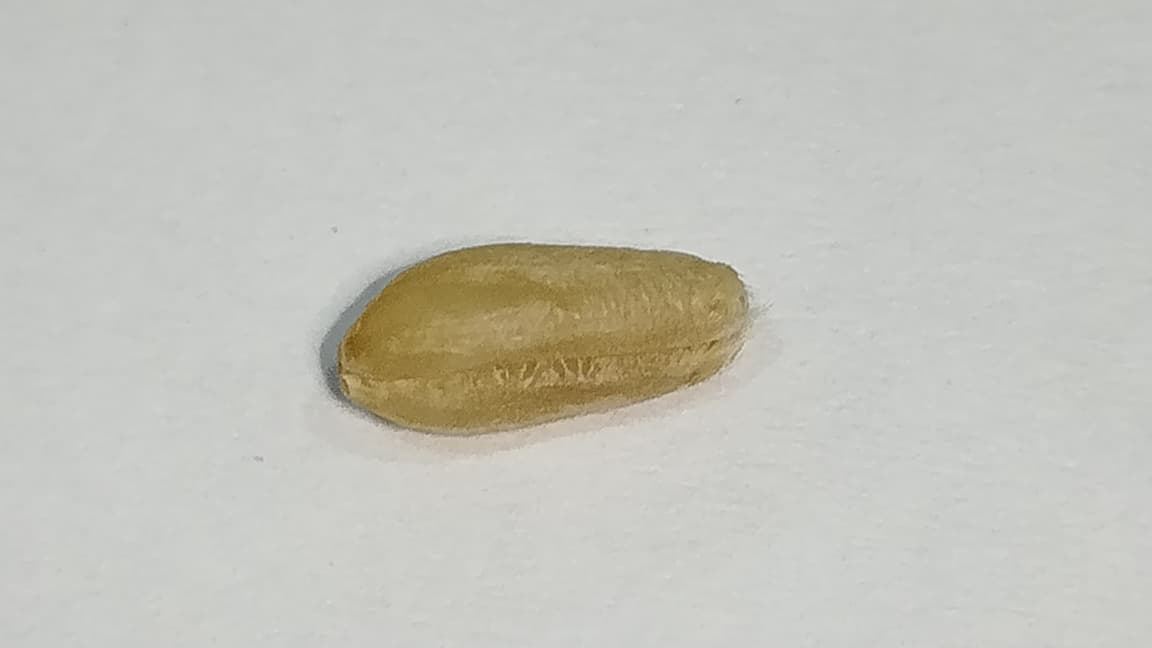healthy: (338, 242, 749, 434)
